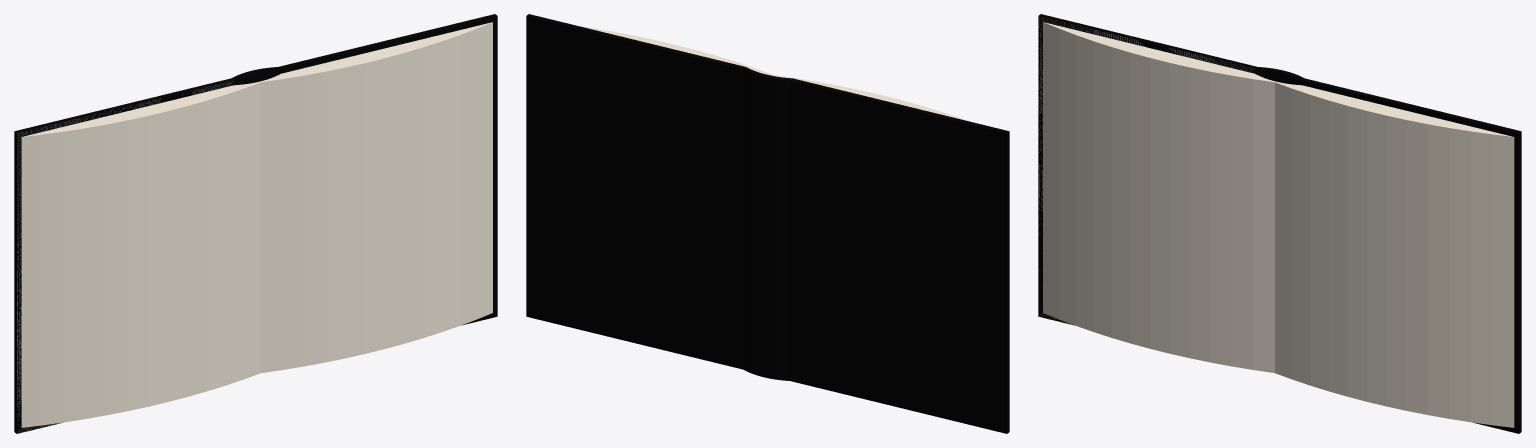
3 renders of one model, left to right at view 1: azimuth 30°, elevation 25°; view 2: azimuth 150°, elevation 25°; view 3: azimuth 330°, elevation 25°, orthographic.
Visible parts, largest first — view 1: open book; view 2: open book; view 3: open book.
Part boxes in pixels (x1,y1,x2,y2): open book: (14,14,497,433); open book: (526,14,1009,433); open book: (1038,14,1521,433).
Size of the model in its own units: 20.16 by 12.05 by 1.13.
